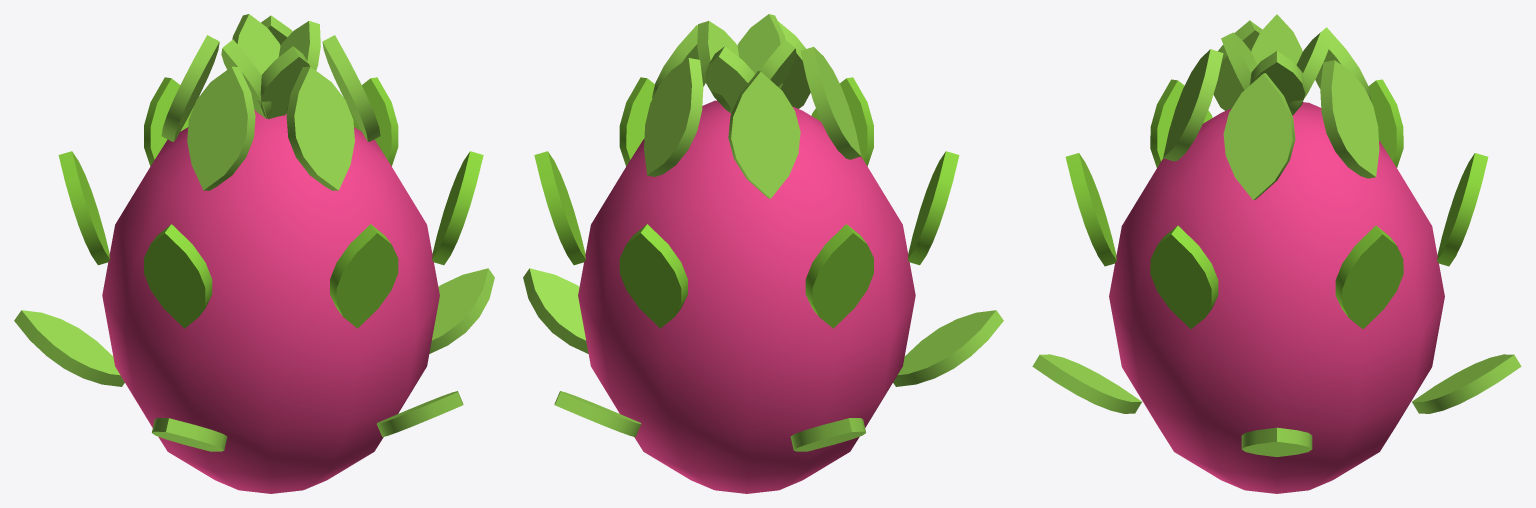
The model's file is DragonFruit.fbx.
3 views of the same model, side by side, from view 1: azimuth 30°, elevation 25°; view 2: azimuth 150°, elevation 25°; view 3: azimuth 270°, elevation 25° (orthographic).
Visible parts, largest first — view 1: DragonFruit; view 2: DragonFruit; view 3: DragonFruit.
Boxes of the visible parts, x1,y1,x2,y2 form: DragonFruit: [14, 14, 494, 493]; DragonFruit: [523, 14, 1003, 493]; DragonFruit: [1032, 14, 1521, 493].
Bounding box in the file's own units: 1.32 × 1.4 × 1.38.
Materials: 1 (1 with a texture image).
